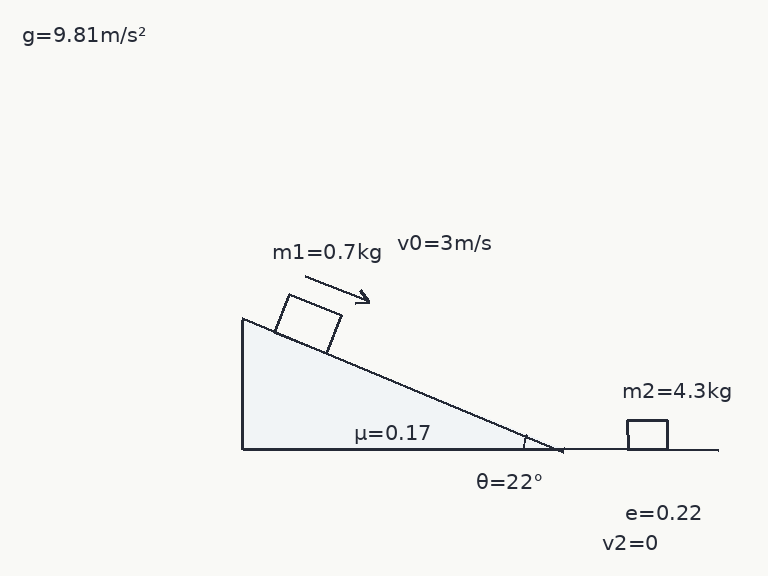block: (272, 292, 343, 355), (625, 418, 669, 451)
ramp: (240, 317, 566, 451)
